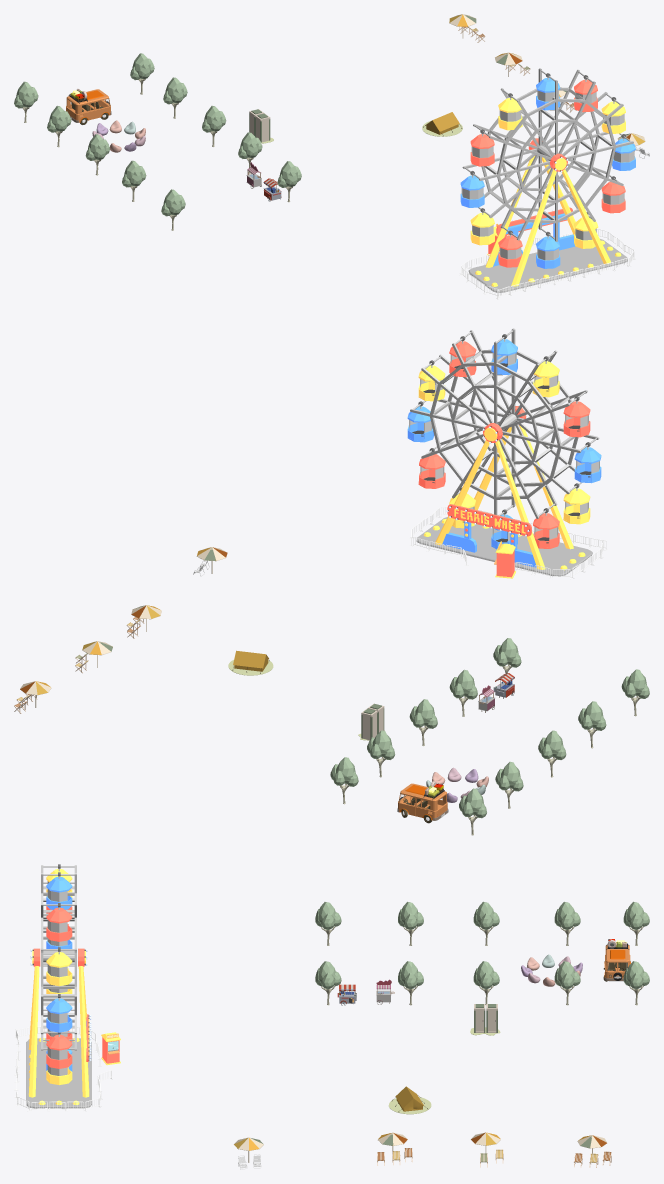
The picture shows the model from 3 angles, top to bottom: view 1: azimuth 30°, elevation 25°; view 2: azimuth 150°, elevation 25°; view 3: azimuth 270°, elevation 25°; orthographic projection. The views are drawn at different scales.
Parts seen in each view (by area): view 1: Ferris Wheel (×2), CAMPING ZONE 03, Cube, Ferris Wheel Cabine Red (1), Ferris Wheel Cabine Blue, Ferris Wheel Cabine Blue (1), Ferris Wheel Cabine Yellow, Ferris Wheel Cabine Red, Ferris Wheel Cabine Red (3), Ferris Wheel Cabine Yellow (1), Ferris Wheel Cabine Blue (3), Ferris Wheel Cabine Yellow (2) (+14 smaller); view 2: Ferris Wheel (×2), CAMPING ZONE 03, Cube, Ferris Wheel Cabine Red (1), Ferris Wheel Cabine Yellow, Ferris Wheel Cabine Blue (1), Ferris Wheel Cabine Red (3), Ferris Wheel Cabine Red, Ferris Wheel Cabine Yellow (1); view 3: Ferris Wheel (×2), CAMPING ZONE 03, Ferris Wheel Cabine Yellow (2), Ferris Wheel Cabine Red (2), Ferris Wheel Cabine Blue (3), Ferris Wheel Cabine Red (3), Ferris Wheel Cabine Blue (2), Object_59 (1), birchTree (7), Cube, birchTree (1), birchTree (2) (+8 smaller).
Boxes of the visible parts, x1,y1,x2,y2 form: Ferris Wheel (×2): [462, 68, 633, 292]; CAMPING ZONE 03: [249, 52, 576, 143]; Cube: [66, 89, 110, 122]; Ferris Wheel Cabine Red (1): [470, 129, 494, 166]; Ferris Wheel Cabine Blue: [536, 231, 560, 268]; Ferris Wheel Cabine Blue (1): [460, 171, 484, 207]; Ferris Wheel Cabine Yellow: [470, 208, 494, 245]; Ferris Wheel Cabine Red: [498, 230, 522, 267]; Ferris Wheel Cabine Red (3): [601, 176, 625, 213]; Ferris Wheel Cabine Yellow (1): [498, 93, 522, 130]; Ferris Wheel Cabine Blue (3): [612, 134, 635, 170]; Ferris Wheel Cabine Yellow (2): [601, 97, 625, 133]; Ferris Wheel (×2): [410, 328, 599, 576]; CAMPING ZONE 03: [75, 605, 384, 740]; Cube: [398, 783, 447, 820]; Ferris Wheel Cabine Red (1): [563, 396, 590, 437]; Ferris Wheel Cabine Yellow: [563, 483, 590, 524]; Ferris Wheel Cabine Blue (1): [574, 442, 601, 483]; Ferris Wheel Cabine Red (3): [418, 448, 445, 488]; Ferris Wheel Cabine Red: [533, 508, 559, 548]; Ferris Wheel Cabine Yellow (1): [532, 356, 559, 397]; Ferris Wheel (×2): [26, 865, 91, 1108]; CAMPING ZONE 03: [377, 1004, 503, 1167]; Ferris Wheel Cabine Yellow (2): [46, 947, 72, 986]; Ferris Wheel Cabine Red (2): [46, 903, 72, 941]; Ferris Wheel Cabine Blue (3): [46, 994, 72, 1032]; Ferris Wheel Cabine Red (3): [46, 1032, 72, 1068]; Ferris Wheel Cabine Blue (2): [46, 872, 72, 909]; Object_59 (1): [574, 1135, 611, 1167]; birchTree (7): [554, 961, 580, 1005]; Cube: [605, 945, 630, 980]; birchTree (1): [623, 901, 649, 945]; birchTree (2): [554, 901, 580, 945].
Bounding box in the file's own units: 106 × 43.84 × 125.
Materials: 34 (5 with a texture image).
